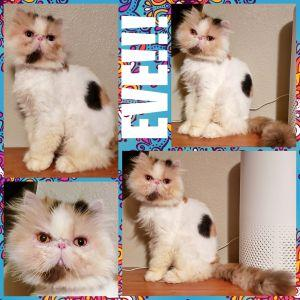persian: (5, 188, 117, 292)
